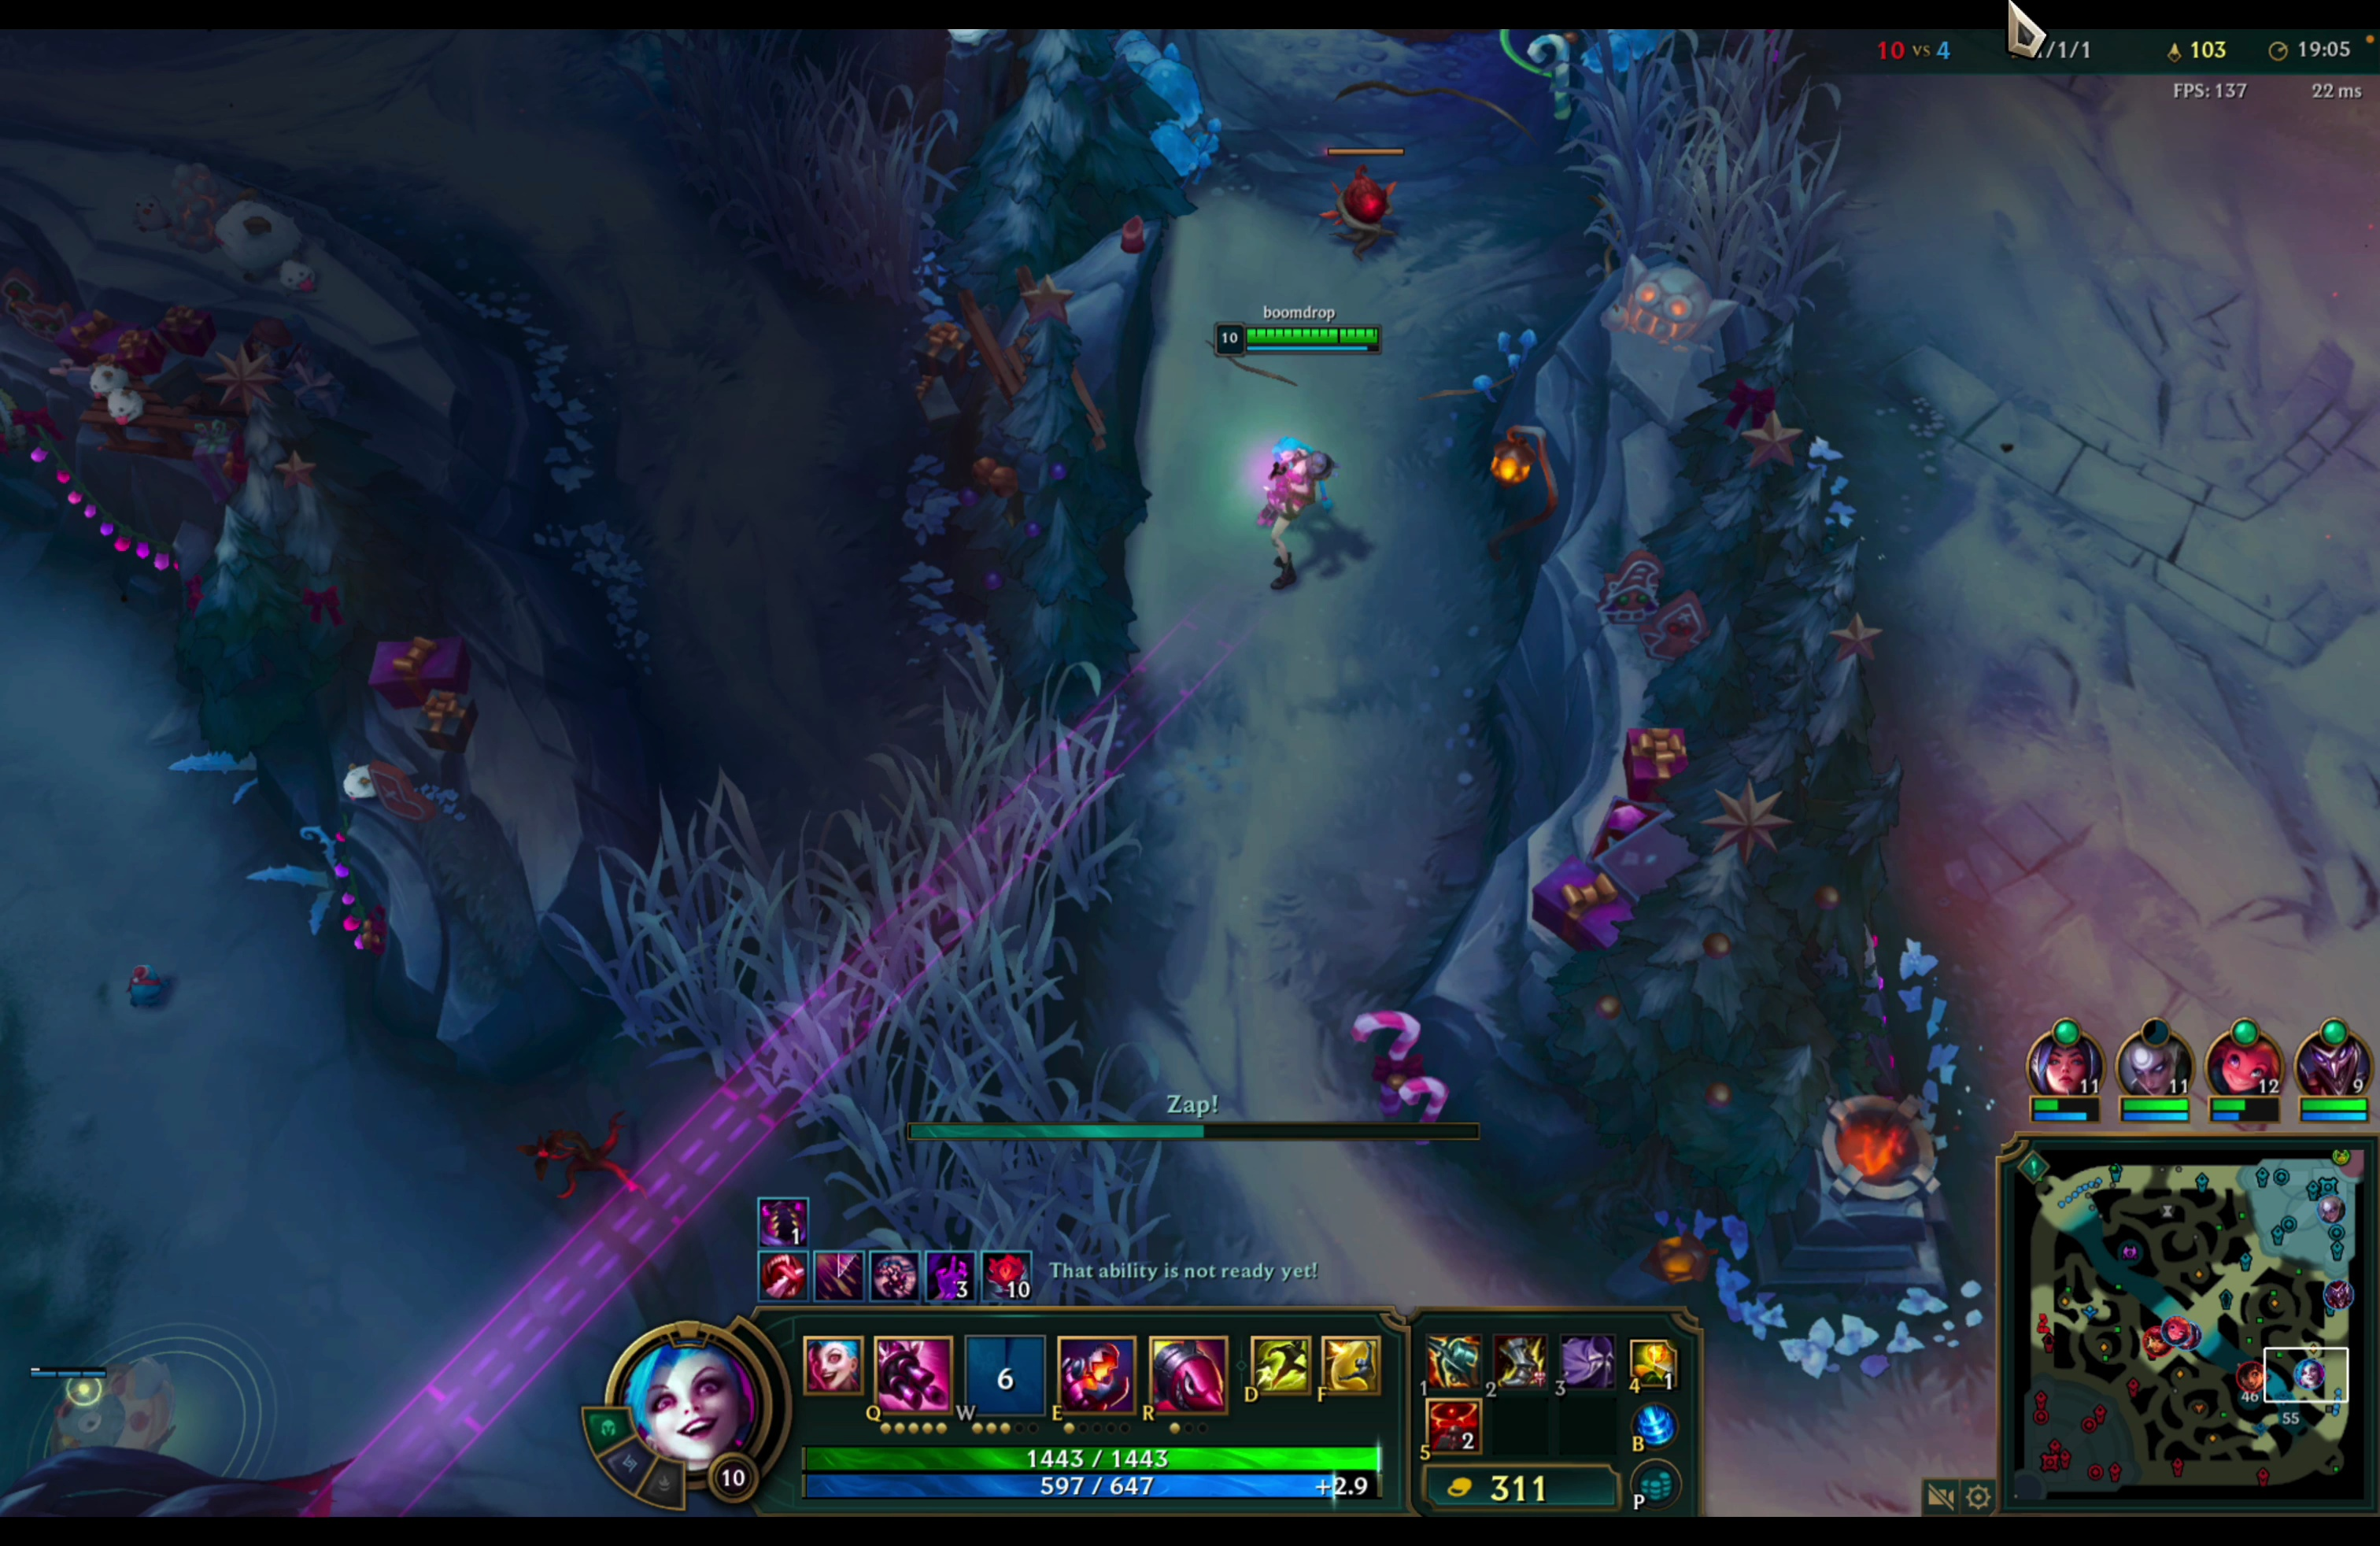JINX_W_PROJECTILE: (1197, 302, 1402, 614)
